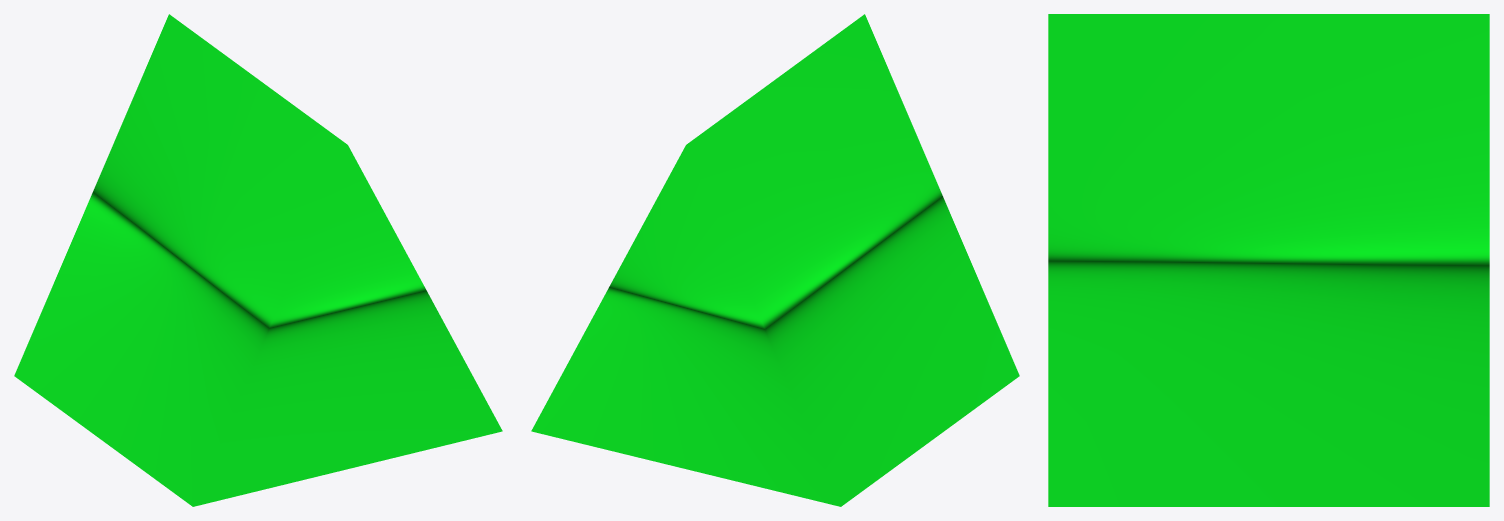
The model's file is rock2.glb.
The picture shows the model from 3 angles, left to right: view 1: azimuth 30°, elevation 25°; view 2: azimuth 150°, elevation 25°; view 3: azimuth 270°, elevation 25°; orthographic projection. The views are drawn at different scales.
Visible parts, largest first — view 1: rock.001; view 2: rock.001; view 3: rock.001.
Part boxes in pixels (bbox=[...]): rock.001: bbox=[14, 14, 502, 506]; rock.001: bbox=[531, 14, 1019, 506]; rock.001: bbox=[1048, 14, 1489, 506].
Bounding box in the file's own units: 1 × 1 × 1.
